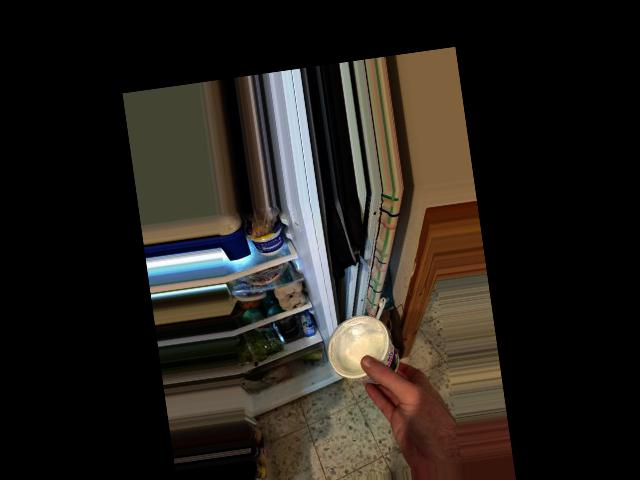cotage: (321, 307, 412, 395)
